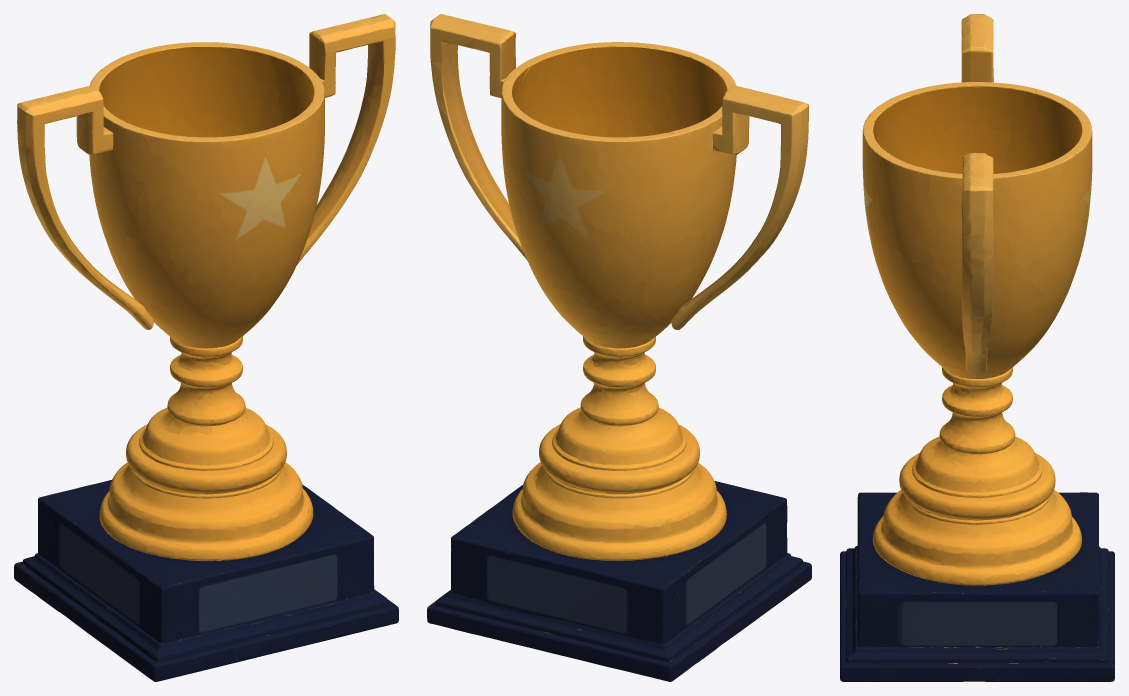
File: trophy.glb
The picture shows the model from 3 angles, left to right: view 1: azimuth 30°, elevation 25°; view 2: azimuth 150°, elevation 25°; view 3: azimuth 270°, elevation 25°; orthographic projection. The views are drawn at different scales.
Bounding box in the file's own units: 1.36 × 1.9 × 0.9037.
1 material, 1 textured.
